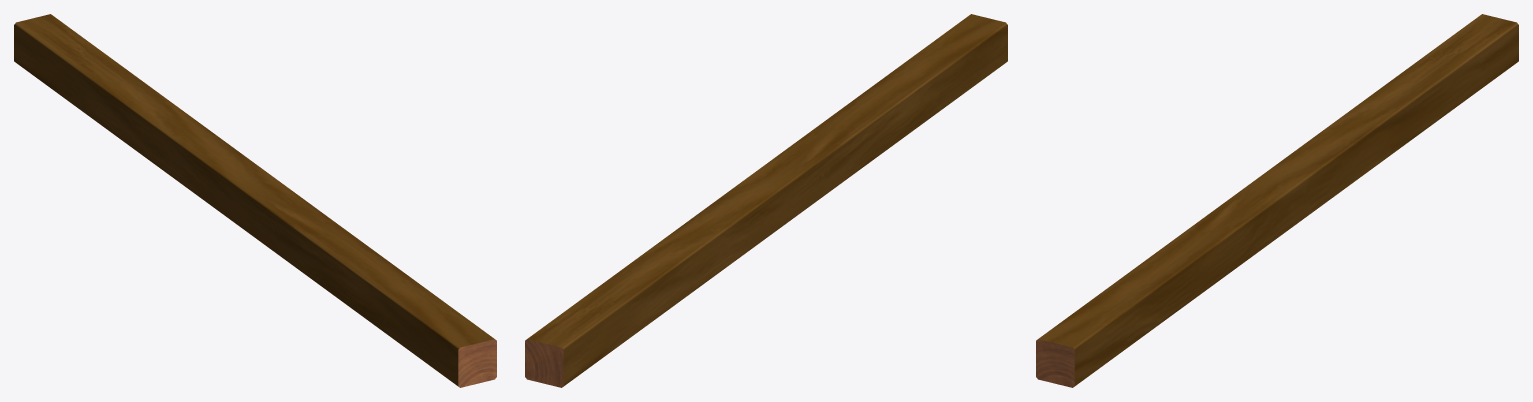
The model's file is WoodSubdivided.fbx.
3 renders of one model, left to right at view 1: azimuth 30°, elevation 25°; view 2: azimuth 150°, elevation 25°; view 3: azimuth 330°, elevation 25°, orthographic.
Parts seen in each view (by area): view 1: WoodSubdivided; view 2: WoodSubdivided; view 3: WoodSubdivided.
Boxes of the visible parts, x1,y1,x2,y2 form: WoodSubdivided: (14, 14, 496, 387); WoodSubdivided: (525, 14, 1007, 387); WoodSubdivided: (1036, 14, 1518, 387).
Bounding box in the file's own units: 0.1004 × 0.1004 × 2.
